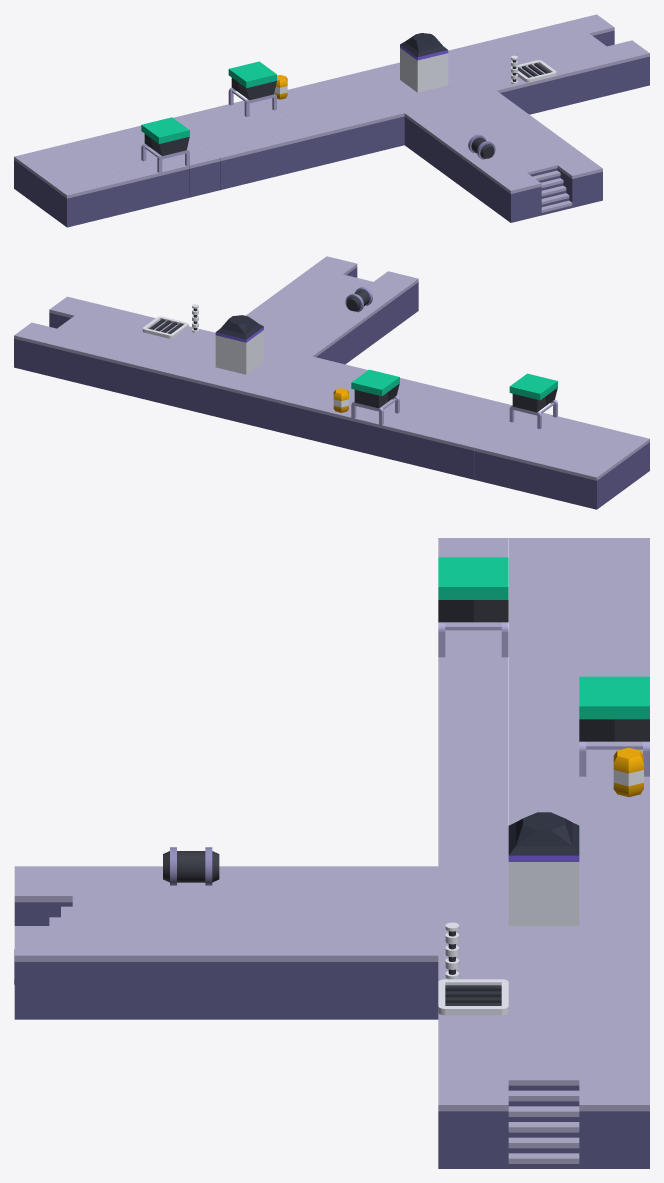
The model's file is room3.obj.
3 views of the same model, one above another, from view 1: azimuth 30°, elevation 25°; view 2: azimuth 150°, elevation 25°; view 3: azimuth 270°, elevation 25° (orthographic). The views are drawn at different scales.
Parts seen in each view (by area): view 1: mergedBlocks; view 2: mergedBlocks; view 3: mergedBlocks.
Part boxes in pixels (box(x1,y1,x2,y2)): mergedBlocks: box(14, 14, 649, 227); mergedBlocks: box(14, 256, 649, 509); mergedBlocks: box(14, 538, 649, 1168).
Bounding box in the file's own units: 19.01 × 2.4 × 9.01.
